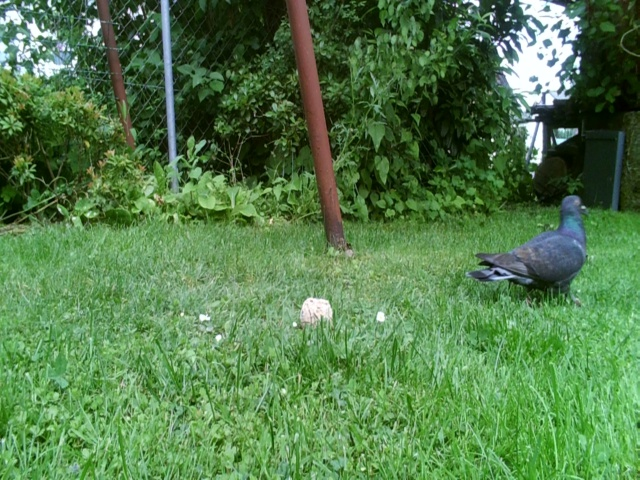Pigeon: (463, 194, 599, 309)
